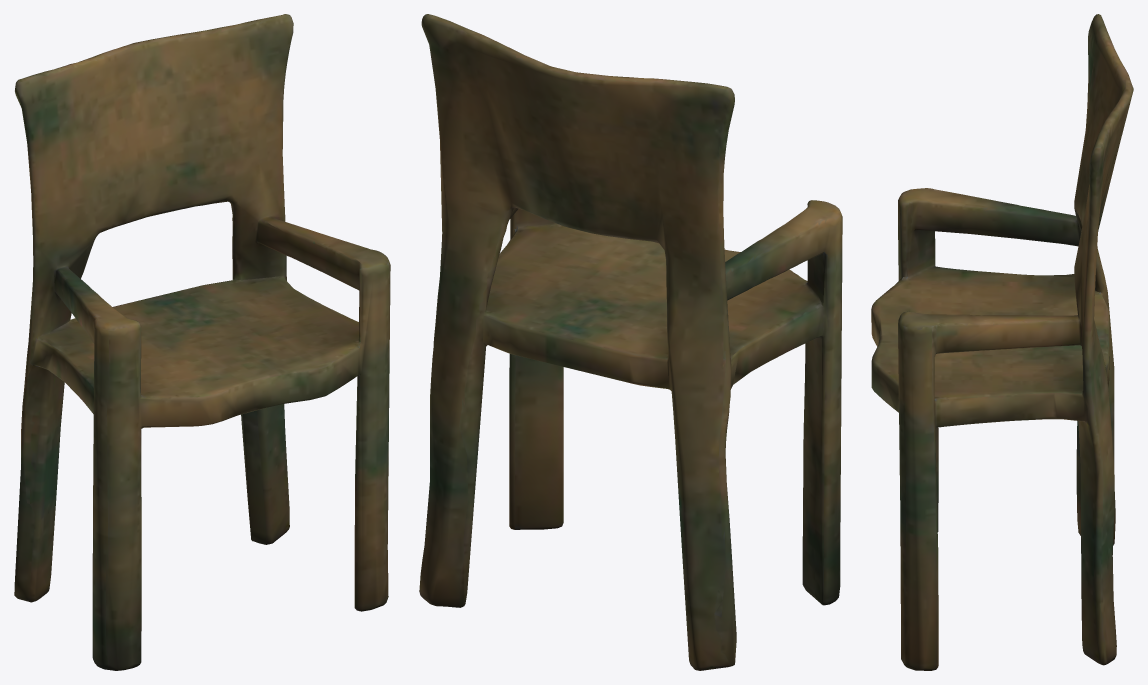
File: plain-bronze-throne-v001.glb
The picture shows the model from 3 angles, left to right: view 1: azimuth 30°, elevation 25°; view 2: azimuth 150°, elevation 25°; view 3: azimuth 270°, elevation 25°; orthographic projection. The views are drawn at different scales.
Visible parts, largest first — view 1: plain-bronze-throne; view 2: plain-bronze-throne; view 3: plain-bronze-throne.
Part boxes in pixels (x1,y1,x2,y2): plain-bronze-throne: (14, 14, 390, 670); plain-bronze-throne: (419, 14, 842, 670); plain-bronze-throne: (871, 14, 1133, 670).
Bounding box in the file's own units: 0.9454 × 1.63 × 0.7387.
Materials: 1 (1 with a texture image).
